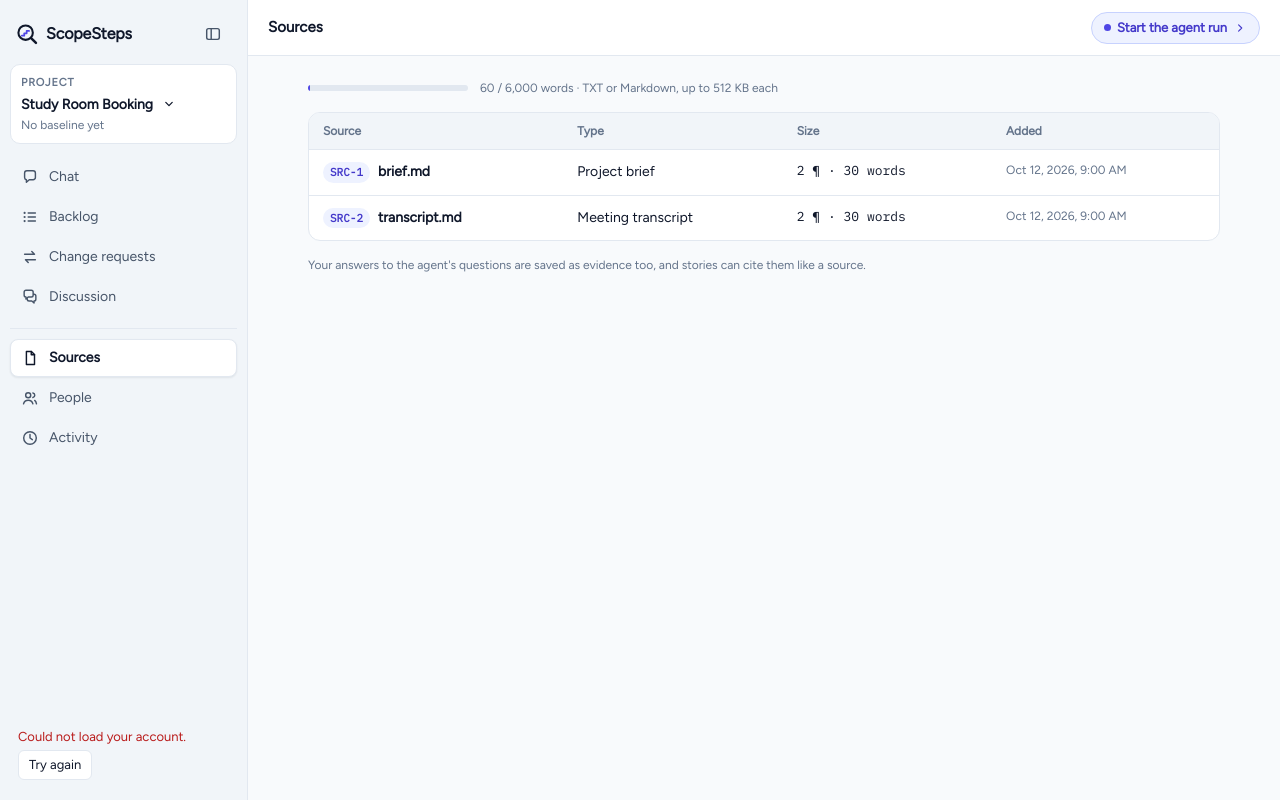
it: AppShell › account menu › offers a retry when the account cannot be loaded
Check: the text "Could not load your account." is shown, box [18, 726, 186, 746]
Step 1. Click the button "Try again" → (55, 765), box [18, 750, 92, 780]
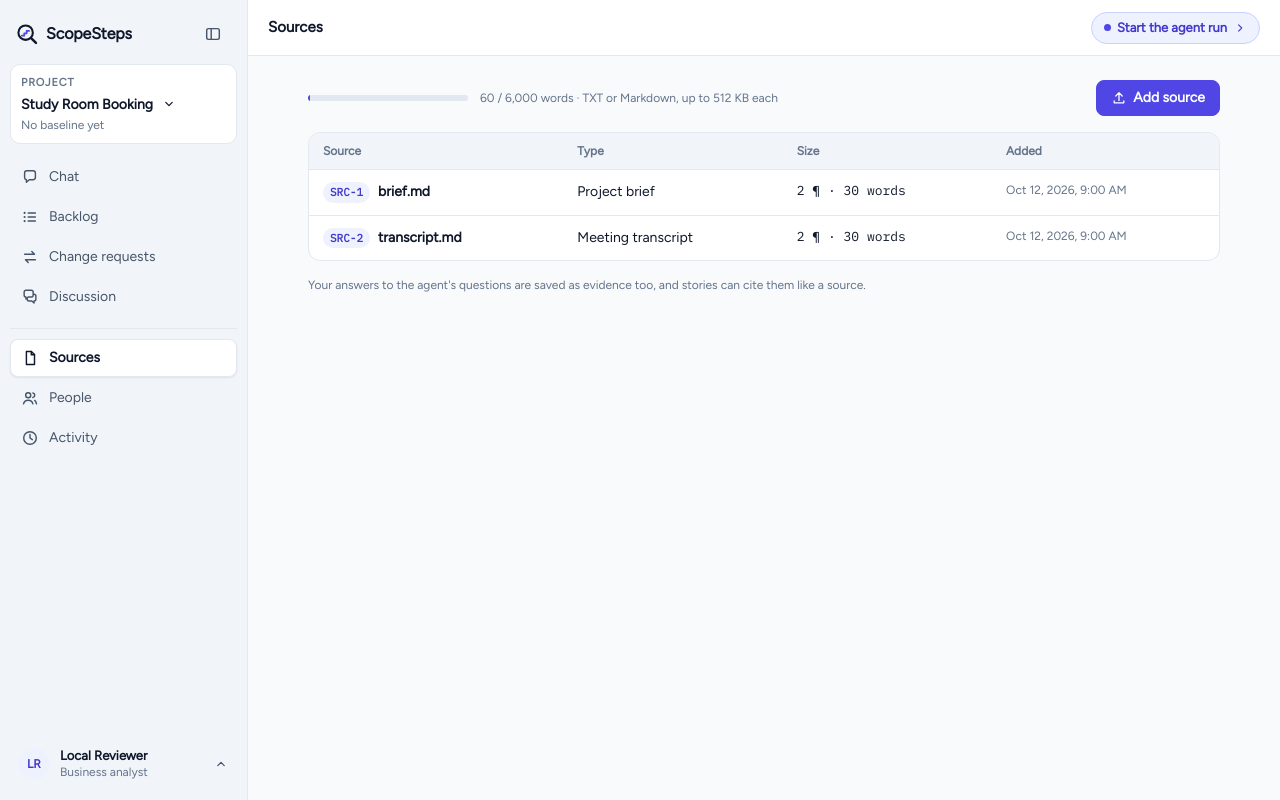
Check: the button "LR Local Reviewer Business analyst" is shown, box [10, 740, 237, 788]
